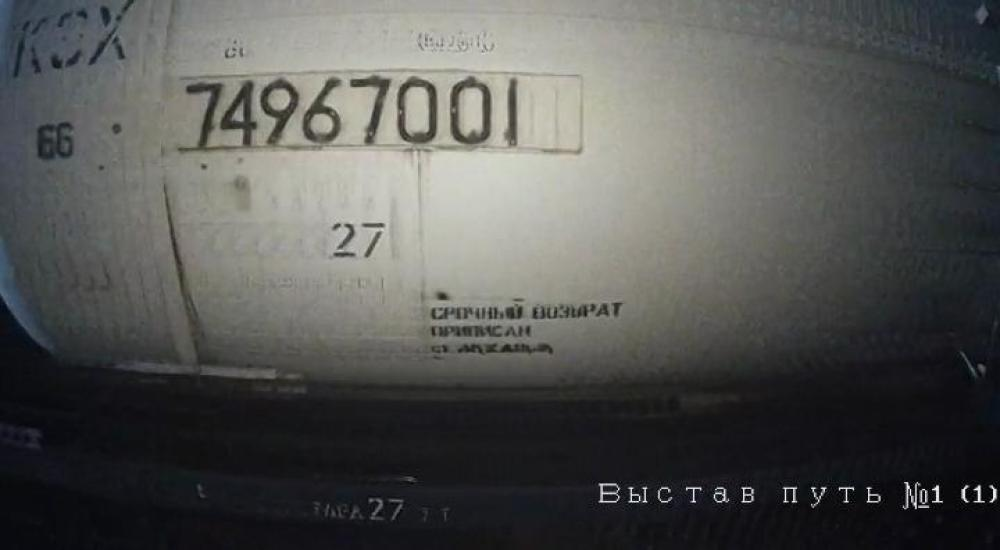Wagon-number: (174, 73, 529, 151)
